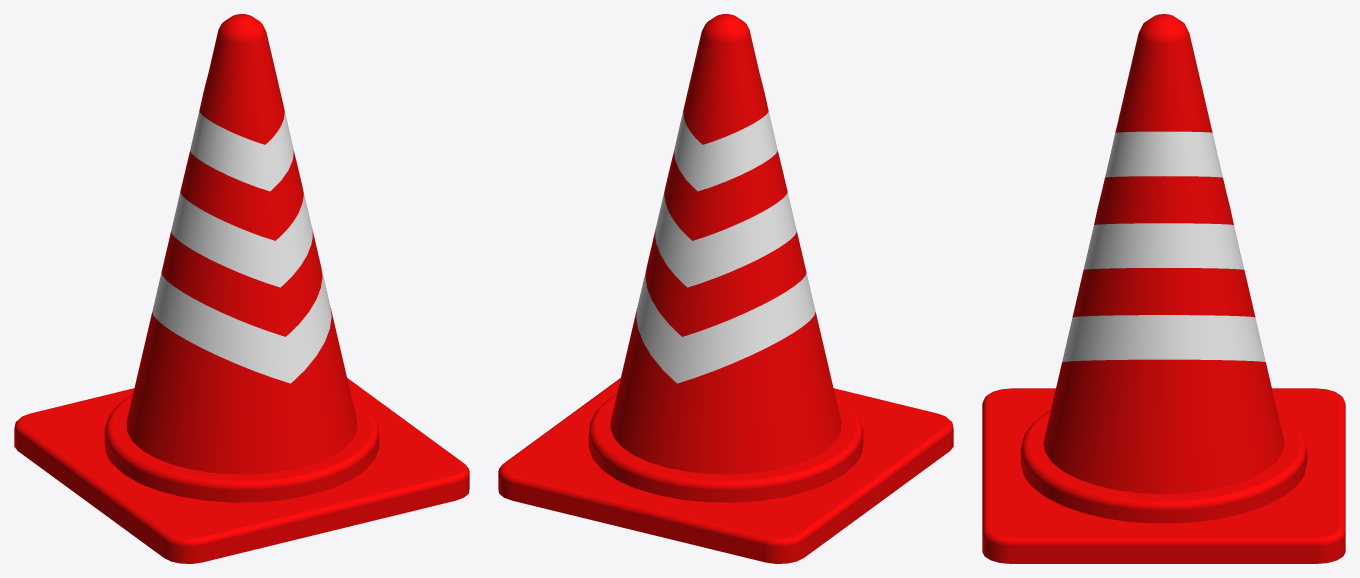
The model's file is TrafficCone_High.fbx.
3 renders of one model, left to right at view 1: azimuth 30°, elevation 25°; view 2: azimuth 150°, elevation 25°; view 3: azimuth 270°, elevation 25°, orthographic. The views are drawn at different scales.
Visible parts, largest first — view 1: High_TrafficCone; view 2: High_TrafficCone; view 3: High_TrafficCone.
Part boxes in pixels (x1,y1,x2,y2): High_TrafficCone: [14, 14, 469, 563]; High_TrafficCone: [498, 14, 953, 563]; High_TrafficCone: [982, 14, 1345, 563].
Bounding box in the file's own units: 4 × 5.72 × 4.
